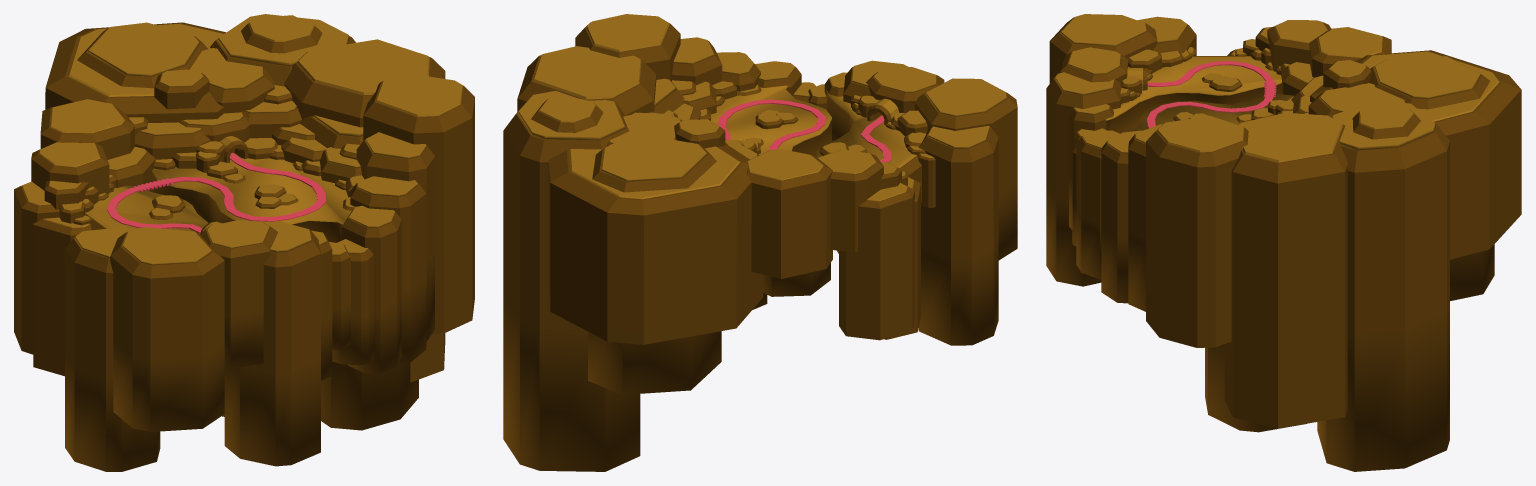
The model's file is Map 3.fbx.
3 views of the same model, side by side, from view 1: azimuth 30°, elevation 25°; view 2: azimuth 150°, elevation 25°; view 3: azimuth 270°, elevation 25° (orthographic). The views are drawn at different scales.
Parts seen in each view (by area): view 1: MAP3_BASE, MAP3_Ground, MAP3_Path.RED; view 2: MAP3_BASE, MAP3_Ground, MAP3_Path.RED; view 3: MAP3_BASE, MAP3_Ground, MAP3_Path.RED.
Part boxes in pixels (left/top/right/bottom): MAP3_BASE: left=14, top=14, right=474, bottom=471; MAP3_Ground: left=85, top=153, right=351, bottom=234; MAP3_Path.RED: left=106, top=152, right=325, bottom=233; MAP3_BASE: left=503, top=14, right=1017, bottom=471; MAP3_Ground: left=711, top=85, right=916, bottom=168; MAP3_Path.RED: left=718, top=99, right=891, bottom=162; MAP3_BASE: left=1046, top=14, right=1521, bottom=471; MAP3_Ground: left=1106, top=56, right=1294, bottom=131; MAP3_Path.RED: left=1147, top=61, right=1276, bottom=128.
Size of the model in its own units: 16690 by 13299 by 17547.
